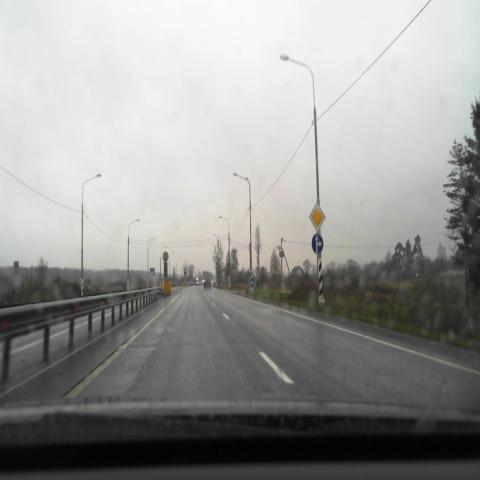4_1_4: (312, 234, 323, 254)
